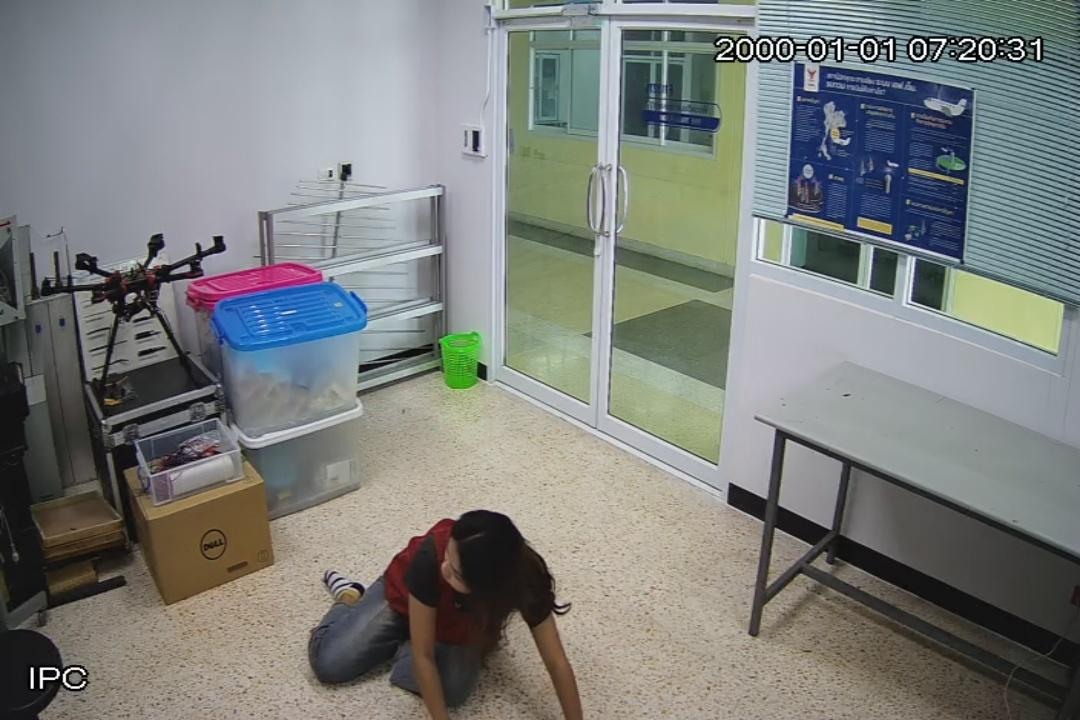fall: (309, 508, 589, 720)
